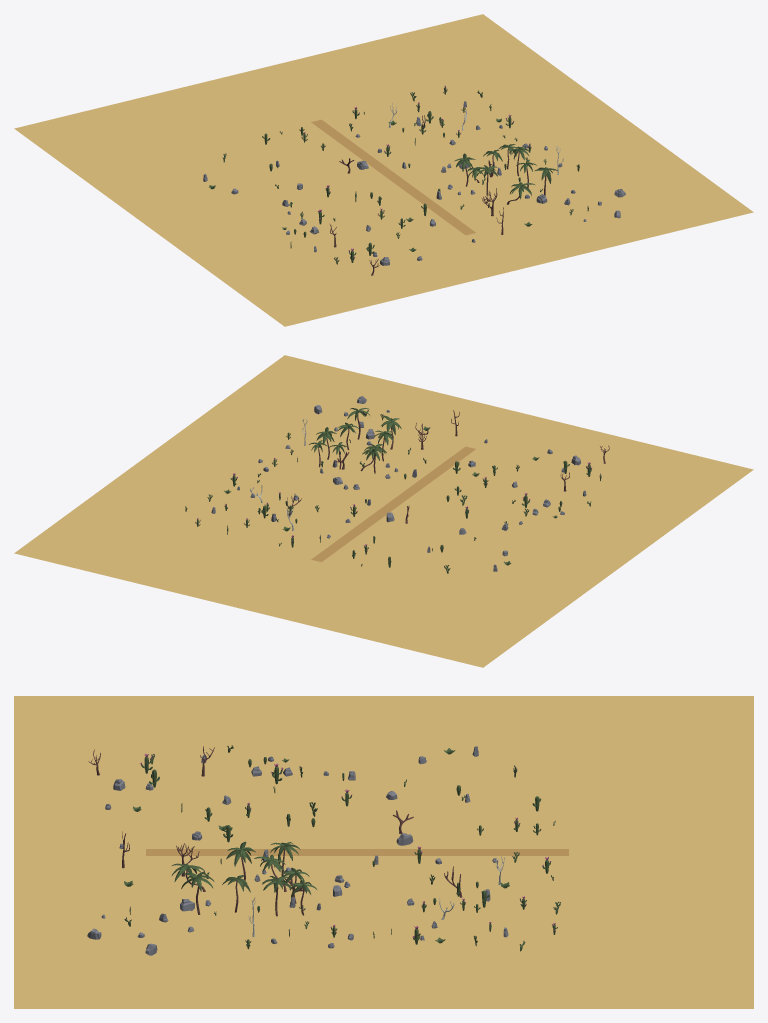
The model's file is env_desert.glb.
3 renders of one model, top to bottom at view 1: azimuth 30°, elevation 25°; view 2: azimuth 150°, elevation 25°; view 3: azimuth 270°, elevation 25°, orthographic. The views are drawn at different scales.
Parts seen in each view (by area): view 1: ground, path; view 2: ground, path; view 3: ground, path.
Part boxes in pixels (x1,y1,x2,y2): ground: (14, 14, 753, 326); path: (311, 119, 475, 235); ground: (14, 355, 753, 667); path: (311, 446, 475, 562); ground: (14, 696, 753, 1008); path: (146, 849, 568, 855).
Size of the model in its own units: 140 by 8.35 by 140.
